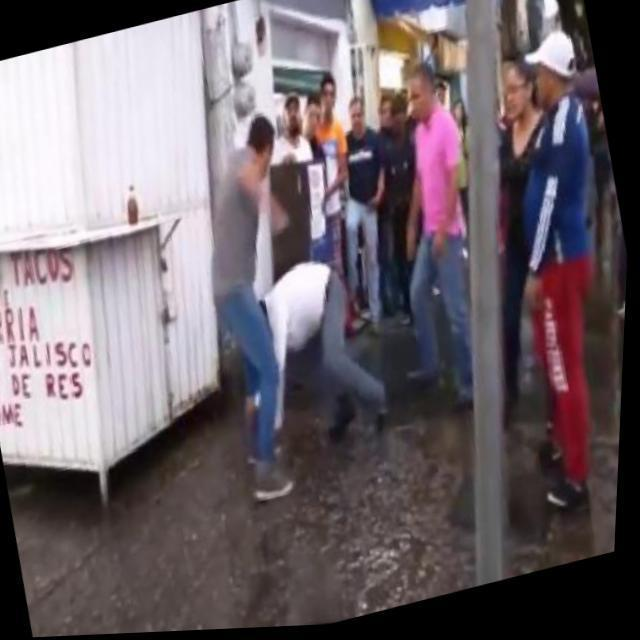fight: (142, 84, 422, 524)
